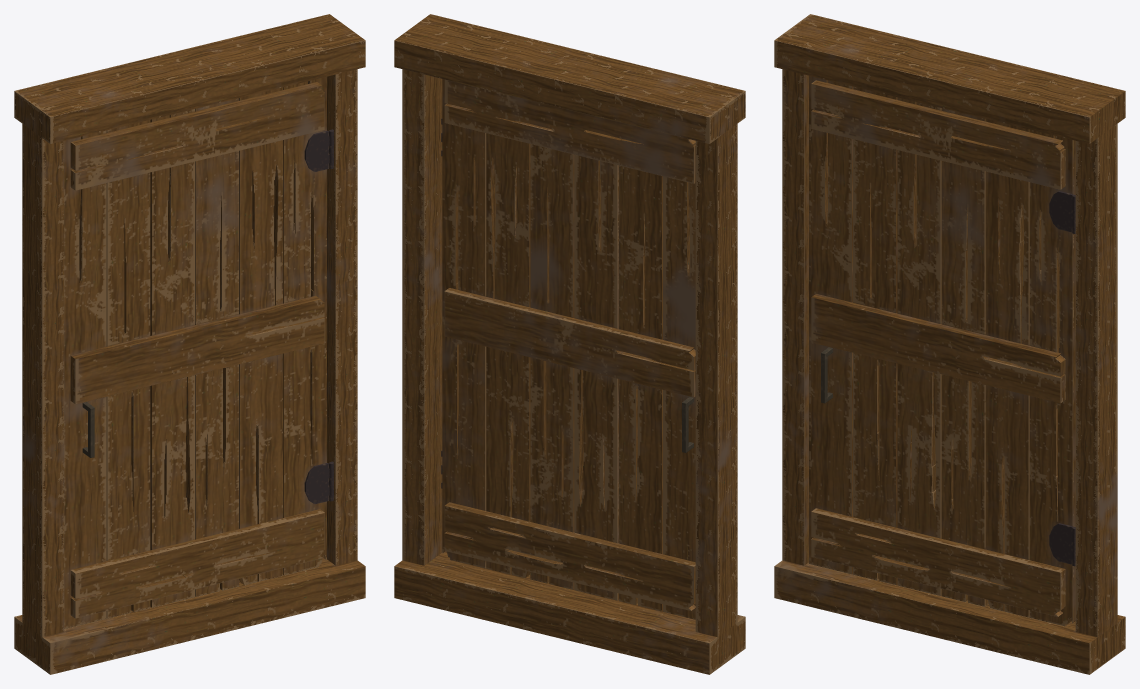
Rendered from underground_door.fbx.
3 views of the same model, side by side, from view 1: azimuth 30°, elevation 25°; view 2: azimuth 150°, elevation 25°; view 3: azimuth 330°, elevation 25° (orthographic).
Visible parts, largest first — view 1: underground_door_wood, underground_door_wall; view 2: underground_door_wood, underground_door_wall; view 3: underground_door_wood, underground_door_wall.
Part boxes in pixels (x1,y1,x2,y2): underground_door_wood: [64, 76, 333, 628]; underground_door_wall: [14, 14, 365, 674]; underground_door_wood: [442, 79, 695, 619]; underground_door_wall: [394, 14, 745, 674]; underground_door_wood: [809, 75, 1075, 626]; underground_door_wall: [774, 14, 1125, 674].
Size of the model in its own units: 132 by 224 by 26.33.
Materials: 1 (1 with a texture image).
